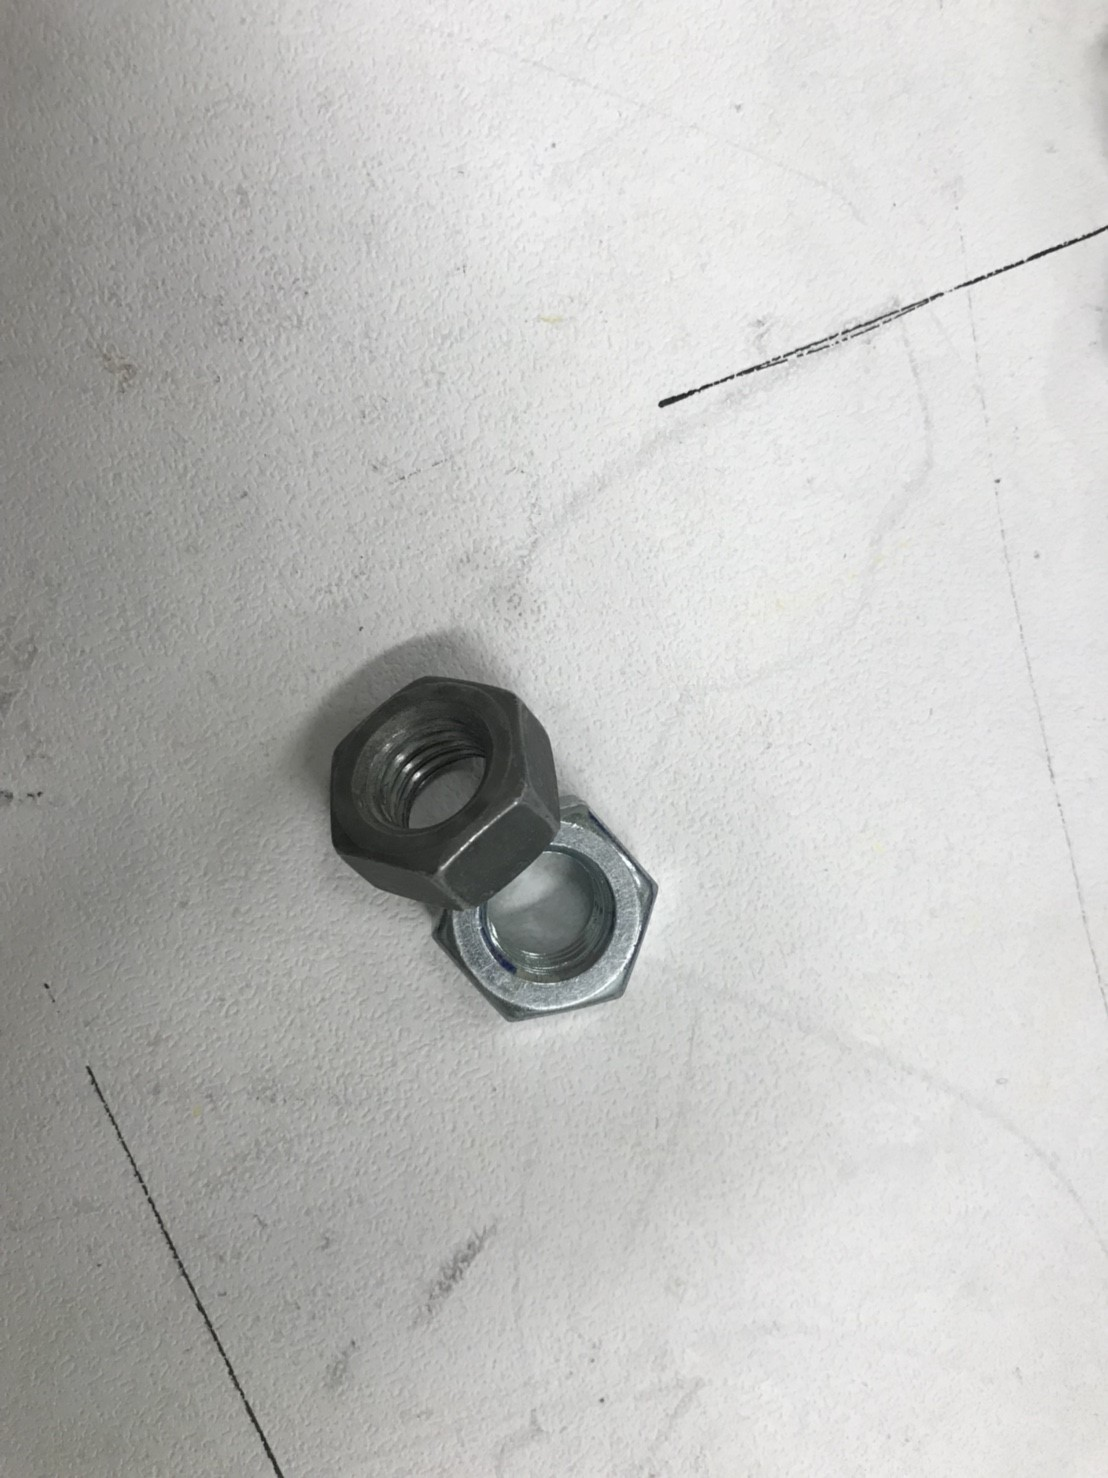nut: (432, 793, 672, 1023), (324, 674, 568, 900)
